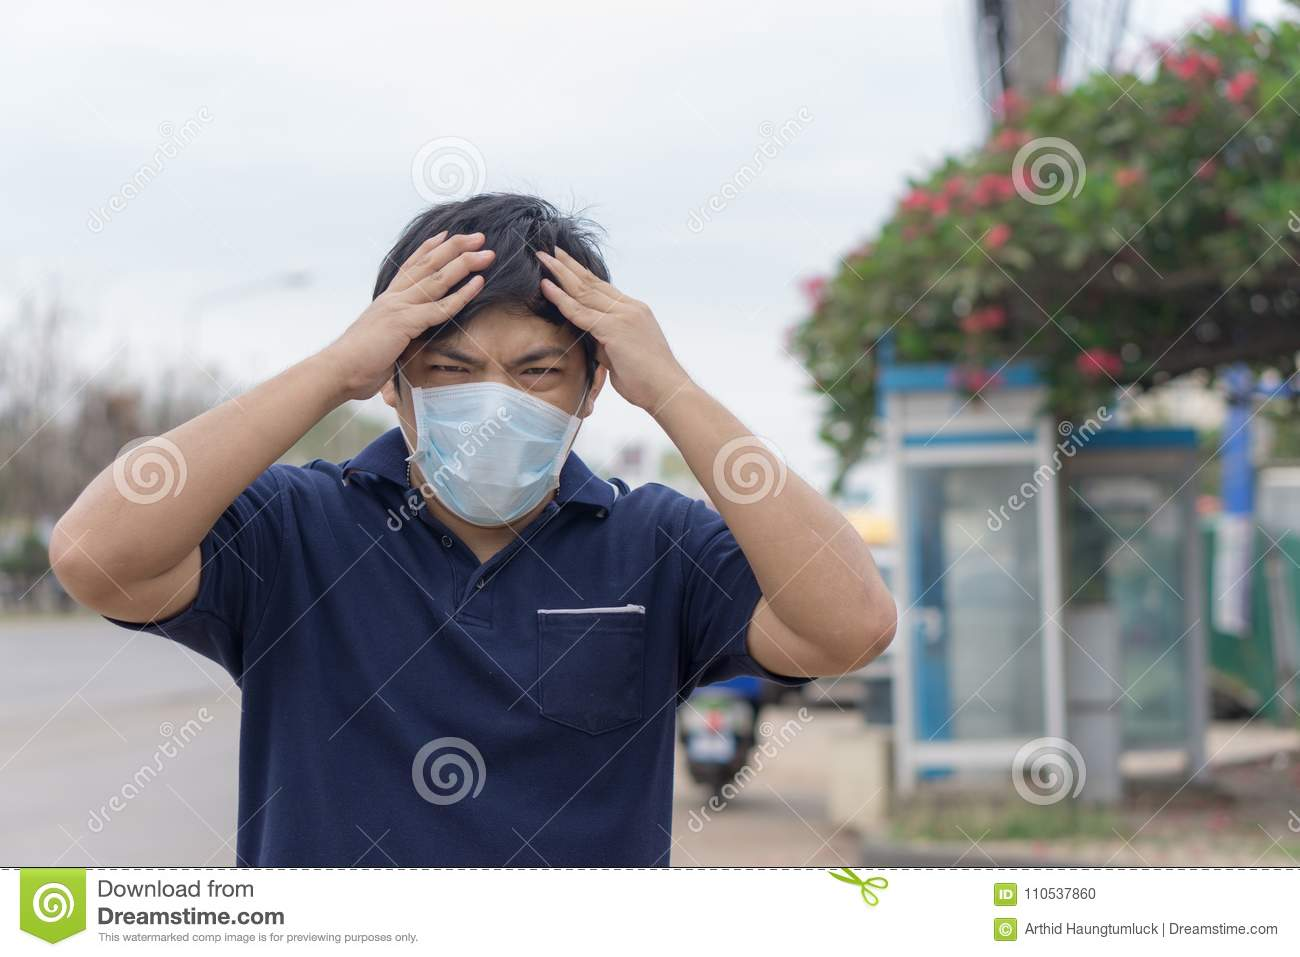mask: (406, 385, 577, 527)
